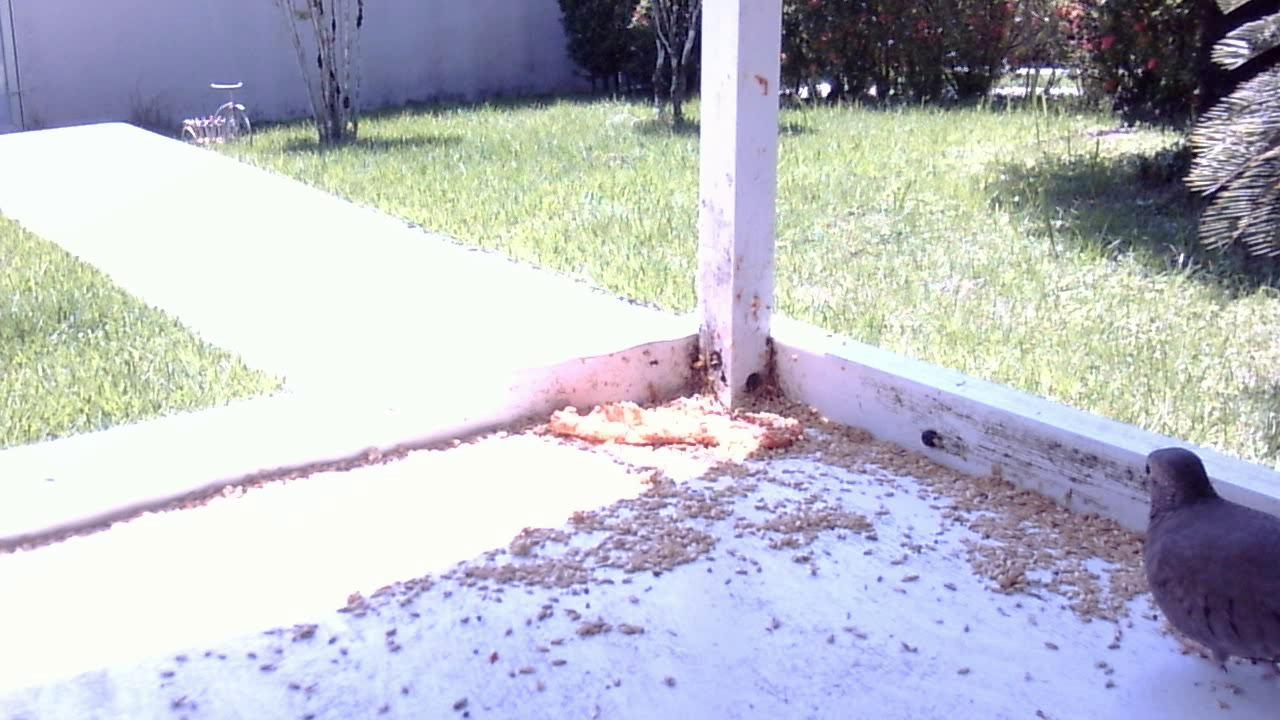rolinha: (1128, 445, 1280, 690)
